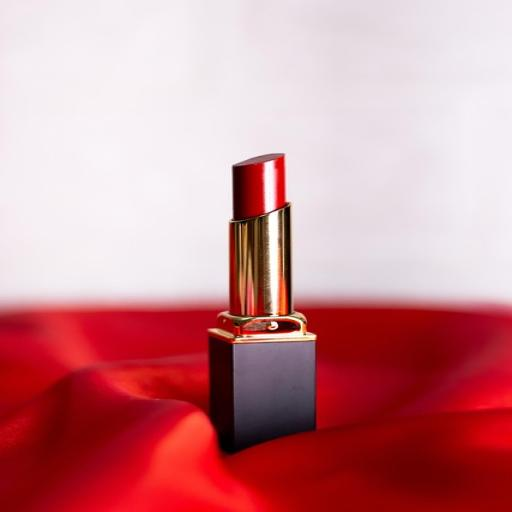lipstick: (209, 154, 315, 452)
